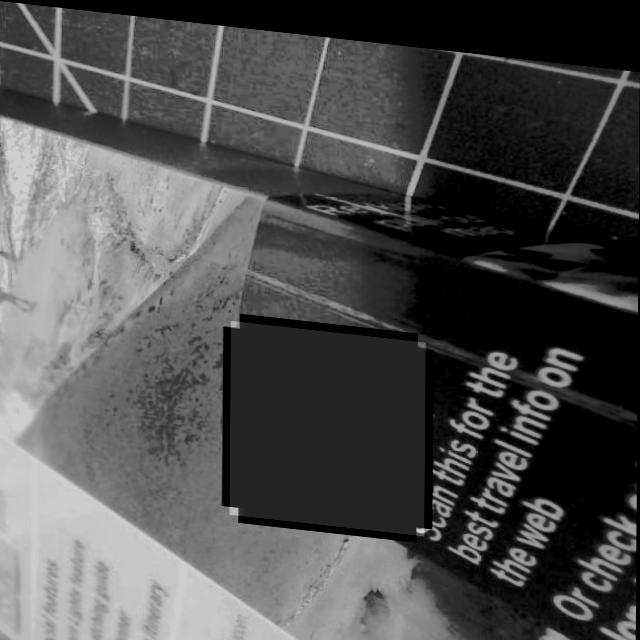qr_code: (230, 314, 426, 525)
